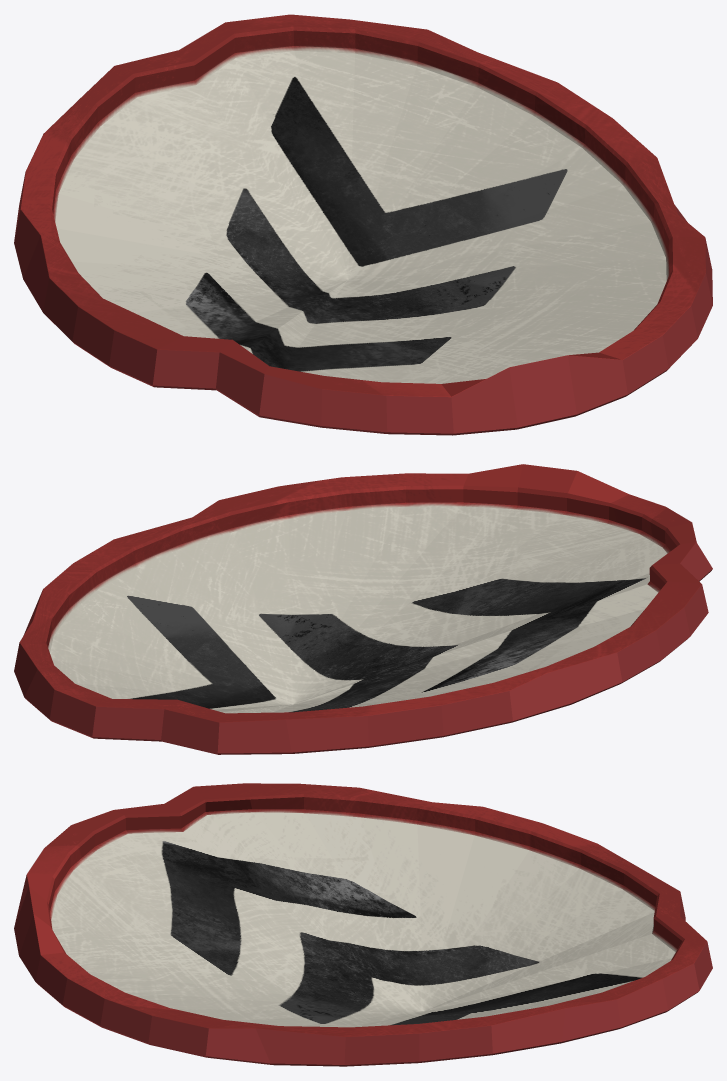
The picture shows the model from 3 angles, top to bottom: view 1: azimuth 30°, elevation 25°; view 2: azimuth 150°, elevation 25°; view 3: azimuth 270°, elevation 25°; orthographic projection. The views are drawn at different scales.
Visible parts, largest first — view 1: Cylinder.078; view 2: Cylinder.078; view 3: Cylinder.078.
Part boxes in pixels (x1,y1,x2,y2): Cylinder.078: [14, 14, 712, 435]; Cylinder.078: [14, 464, 712, 754]; Cylinder.078: [14, 783, 712, 1066].
Bounding box in the file's own units: 193 × 39.38 × 236.
3 materials, 1 textured.
